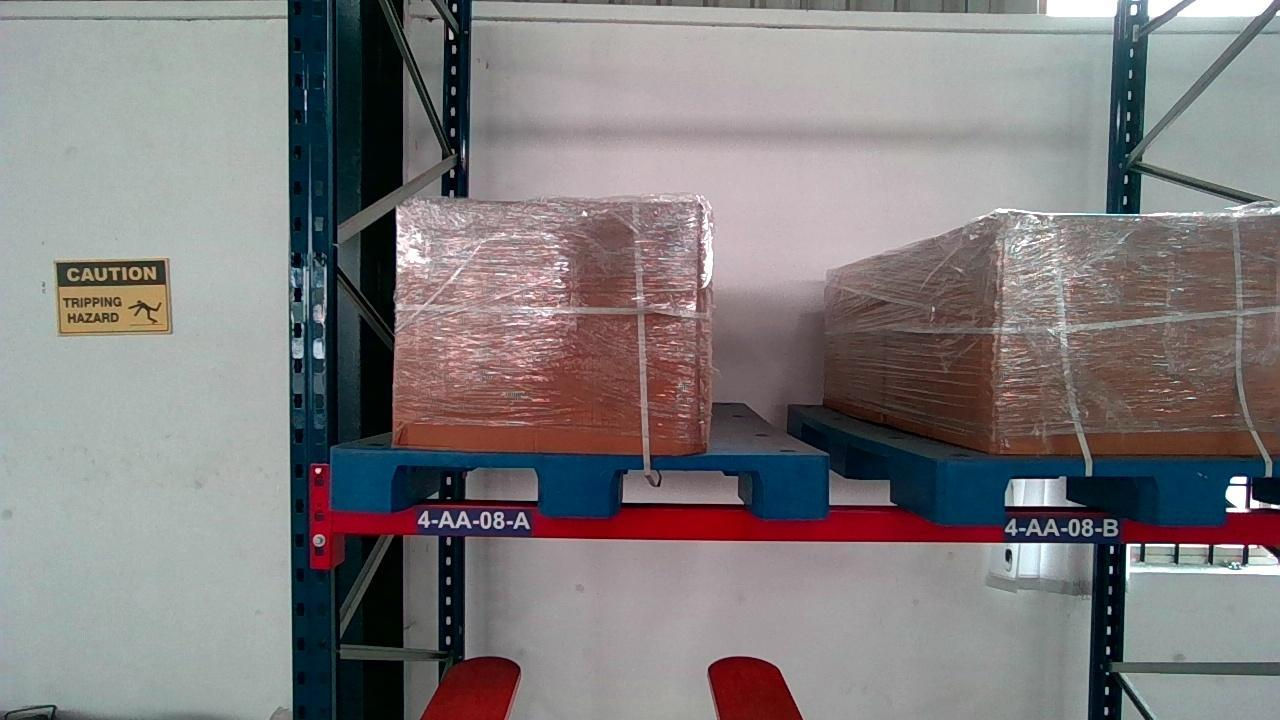h_rack: (322, 505, 1280, 539)
small_pallet: (329, 452, 826, 518), (952, 456, 1280, 520)
